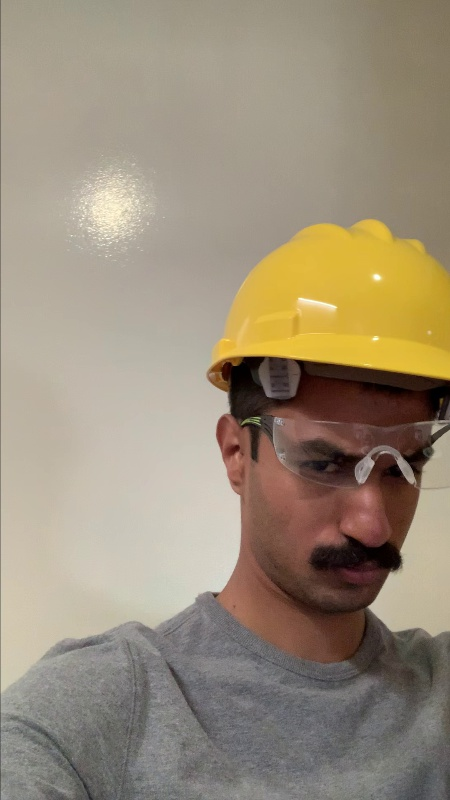glasses: (250, 416, 450, 491)
helmet: (205, 214, 450, 383)
